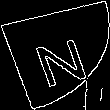N_N: (23, 24, 87, 86)
